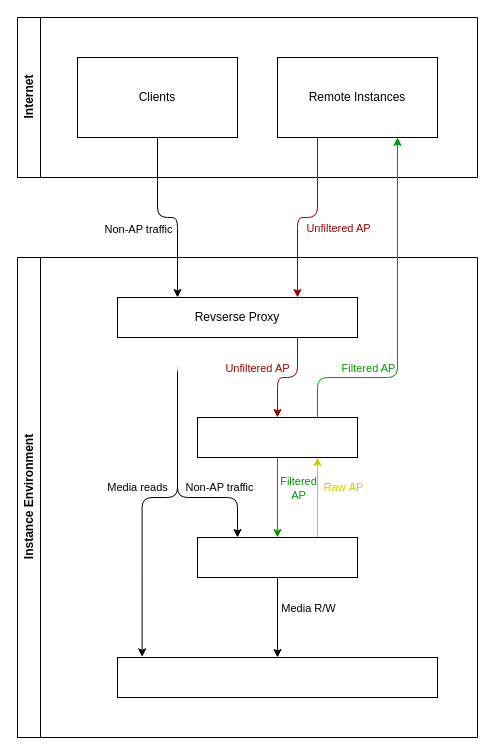
Some shapes in this 495 by 755 pixel diagram are drawn without their labels. The centre of each missing label's shape, as x and y in pixels:
"AP-WAF" belongs at (277,437).
"Instance Backend" belongs at (277,557).
"Media Storage" belongs at (277,677).
